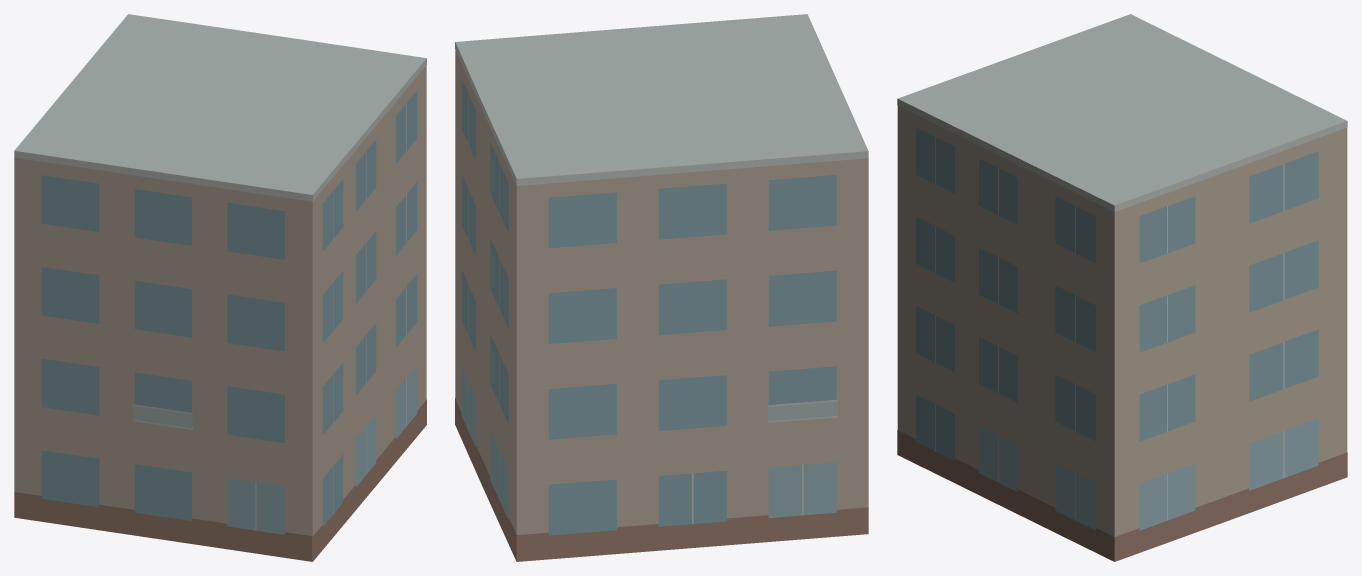
Rendered from survey-upis-32629299.glb.
3 renders of one model, left to right at view 1: azimuth 30°, elevation 25°; view 2: azimuth 150°, elevation 25°; view 3: azimuth 270°, elevation 25°, orthographic. The views are drawn at different scales.
Visible parts, largest first — view 1: survey-upis-32629299.tmp; view 2: survey-upis-32629299.tmp; view 3: survey-upis-32629299.tmp.
Boxes of the visible parts, x1,y1,x2,y2 form: survey-upis-32629299.tmp: (14,14,426,561); survey-upis-32629299.tmp: (455,14,868,561); survey-upis-32629299.tmp: (897,14,1347,561).
Size of the model in its own units: 15.23 by 13.2 by 15.11.
